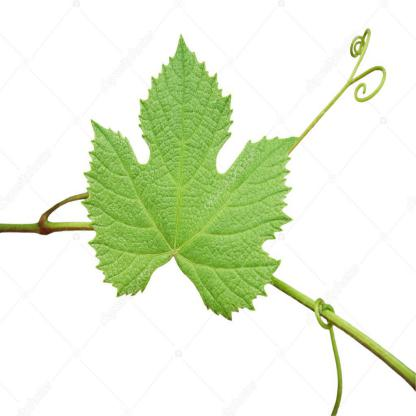grape leaf: (80, 29, 307, 326)
